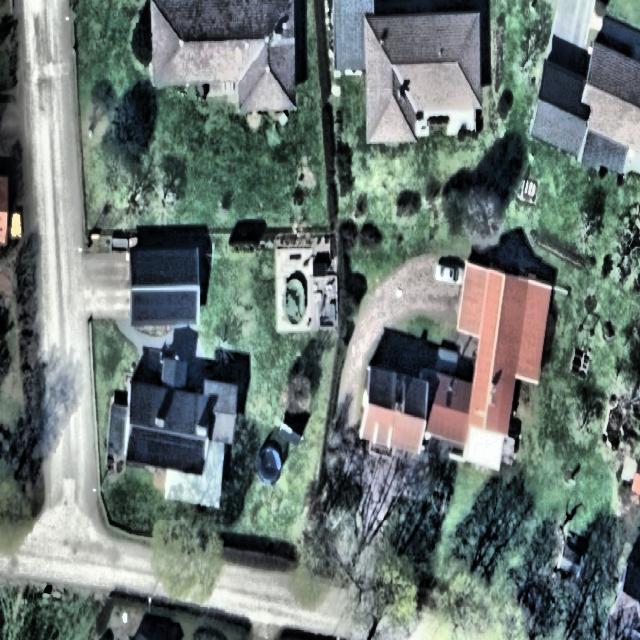roof_pv: (126, 424, 208, 478), (131, 285, 201, 333)
